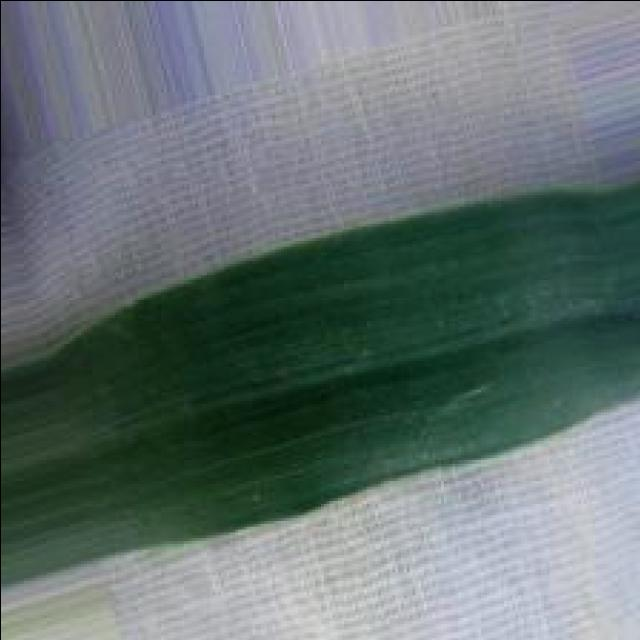Healthy: (0, 183, 640, 586)
